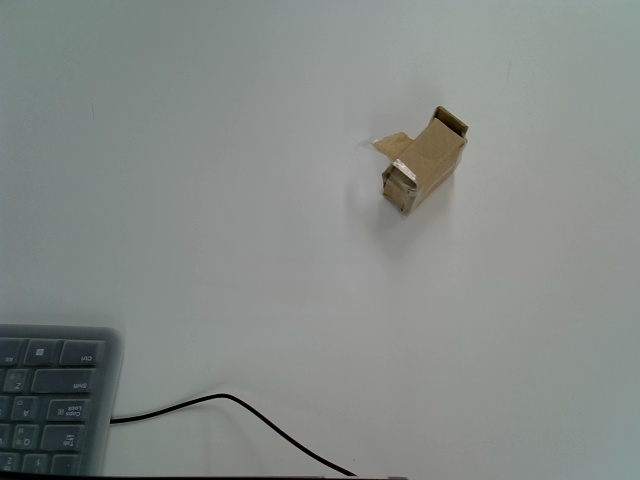defect: (357, 104, 469, 217)
